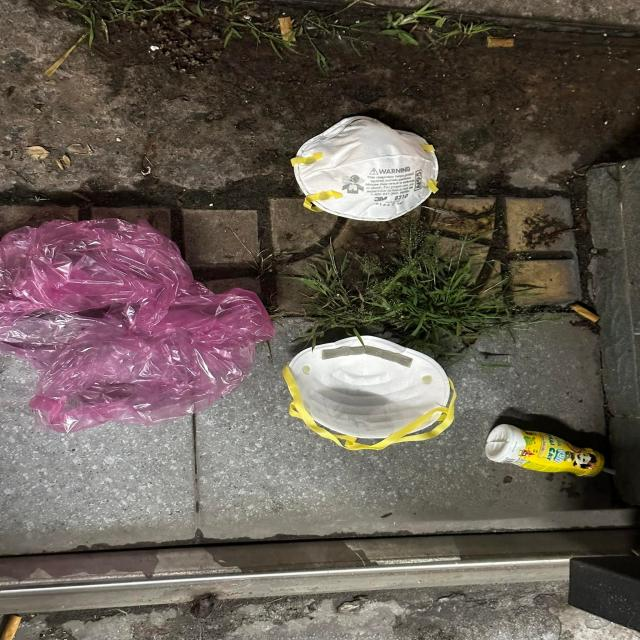bag: (0, 218, 276, 433)
bottle: (485, 424, 616, 477)
mask: (282, 335, 456, 451), (292, 116, 439, 222)
